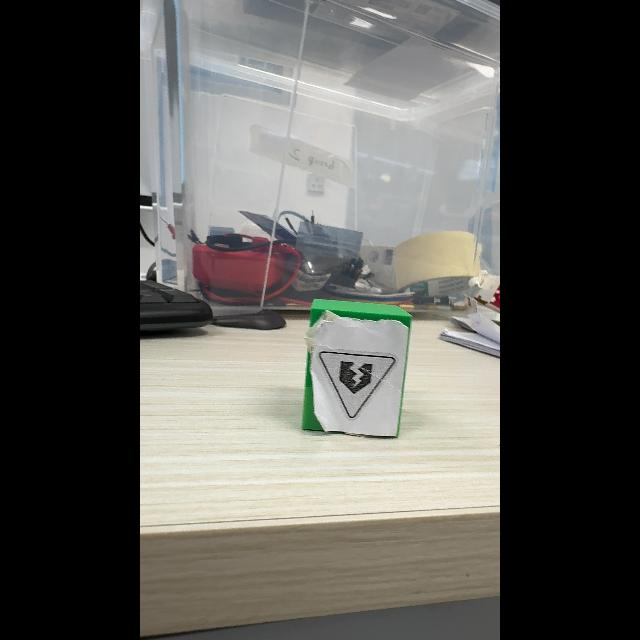Earthquake: (319, 351, 396, 419)
